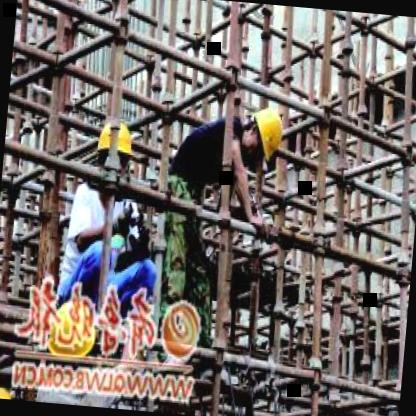helmet: (240, 100, 289, 164), (93, 122, 136, 182)
